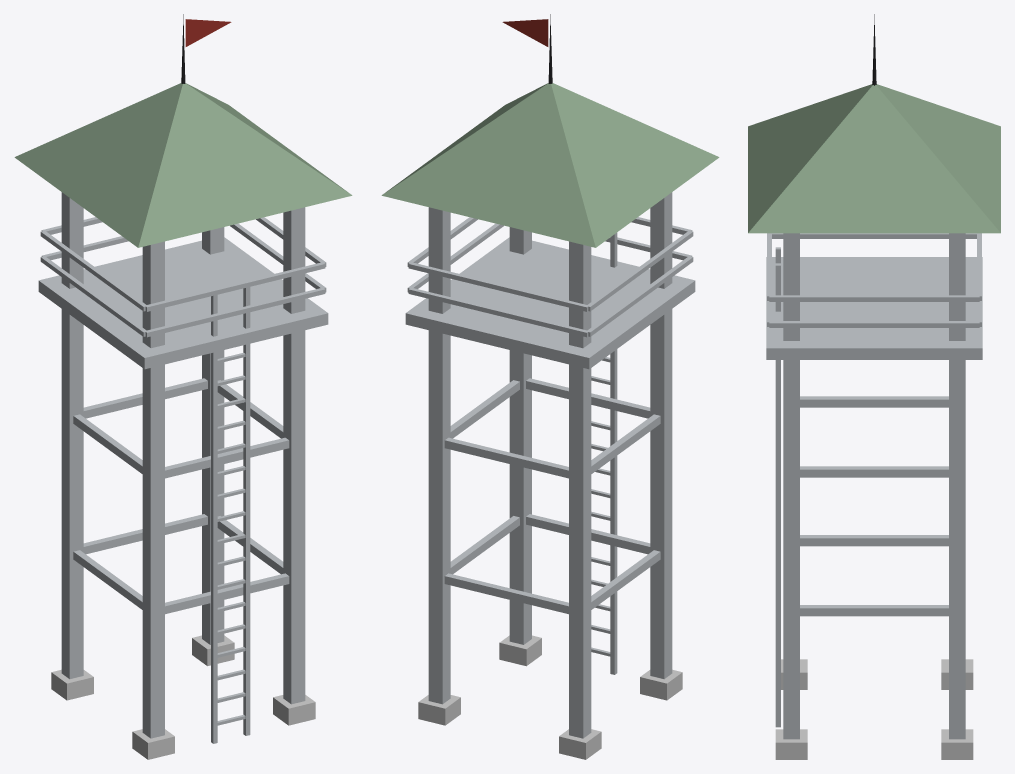
File: lookout.gltf
The picture shows the model from 3 angles, left to right: view 1: azimuth 30°, elevation 25°; view 2: azimuth 150°, elevation 25°; view 3: azimuth 270°, elevation 25°; orthographic projection. The views are drawn at different scales.
Visible parts, largest first — view 1: Roof.045, Platform.017, Beam.001, Beam.005, Beam.003, Beam.007, Beam.027, Beam.026, Beam.018, Beam.022, Beam.009, Beam.013 (+14 smaller); view 2: Roof.045, Platform.017, Beam.003, Beam.007, Beam.001, Beam.005, Beam.026, Beam.014, Beam.010, Beam.023, Beam.019, Beam.013 (+13 smaller); view 3: Roof.045, Platform.017, Beam.005, Beam.007, Beam.027, Beam.011, Beam.012, Beam.015, Beam.016, Beam.021, Beam.025, Beam.020 (+3 smaller).
Part boxes in pixels (box(x1,y1,x2,y2)): Roof.045: box(14, 83, 352, 247); Platform.017: box(38, 237, 328, 369); Beam.001: box(142, 241, 164, 738); Beam.005: box(283, 207, 305, 704); Beam.003: box(61, 192, 83, 679); Beam.007: box(202, 227, 224, 644); Beam.027: box(243, 287, 250, 735); Beam.026: box(211, 295, 217, 743); Beam.018: box(145, 287, 325, 337); Beam.022: box(145, 262, 325, 311); Beam.009: box(165, 573, 289, 614); Beam.013: box(165, 437, 289, 478); Roof.045: box(381, 83, 719, 247); Platform.017: box(405, 237, 695, 369); Beam.003: box(569, 241, 591, 738); Beam.007: box(428, 207, 450, 704); Beam.001: box(650, 192, 672, 679); Beam.005: box(509, 227, 531, 644); Beam.026: box(610, 232, 617, 674); Beam.014: box(444, 437, 568, 478); Beam.010: box(444, 573, 568, 614); Beam.023: box(408, 262, 588, 311); Beam.019: box(408, 288, 588, 337); Beam.013: box(526, 378, 650, 418); Roof.045: box(748, 84, 1000, 233); Platform.017: box(766, 257, 982, 359); Beam.005: box(783, 233, 799, 739); Beam.007: box(949, 233, 965, 739); Beam.027: box(775, 263, 780, 727); Beam.011: box(800, 535, 948, 546); Beam.012: box(800, 605, 948, 616); Beam.015: box(800, 396, 948, 407); Beam.016: box(800, 466, 948, 477); Beam.021: box(769, 321, 979, 327); Beam.025: box(769, 295, 979, 301); Beam.020: box(772, 233, 976, 238).
Size of the model in its own units: 3.97 by 12.2 by 3.97.
